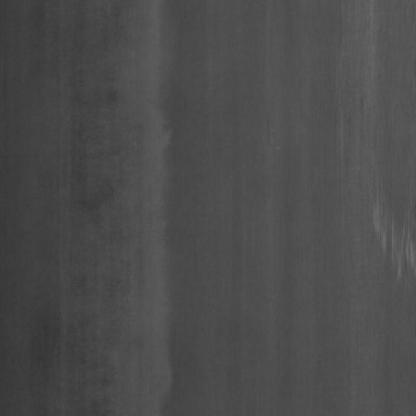silk_spot: (368, 174, 416, 297)
